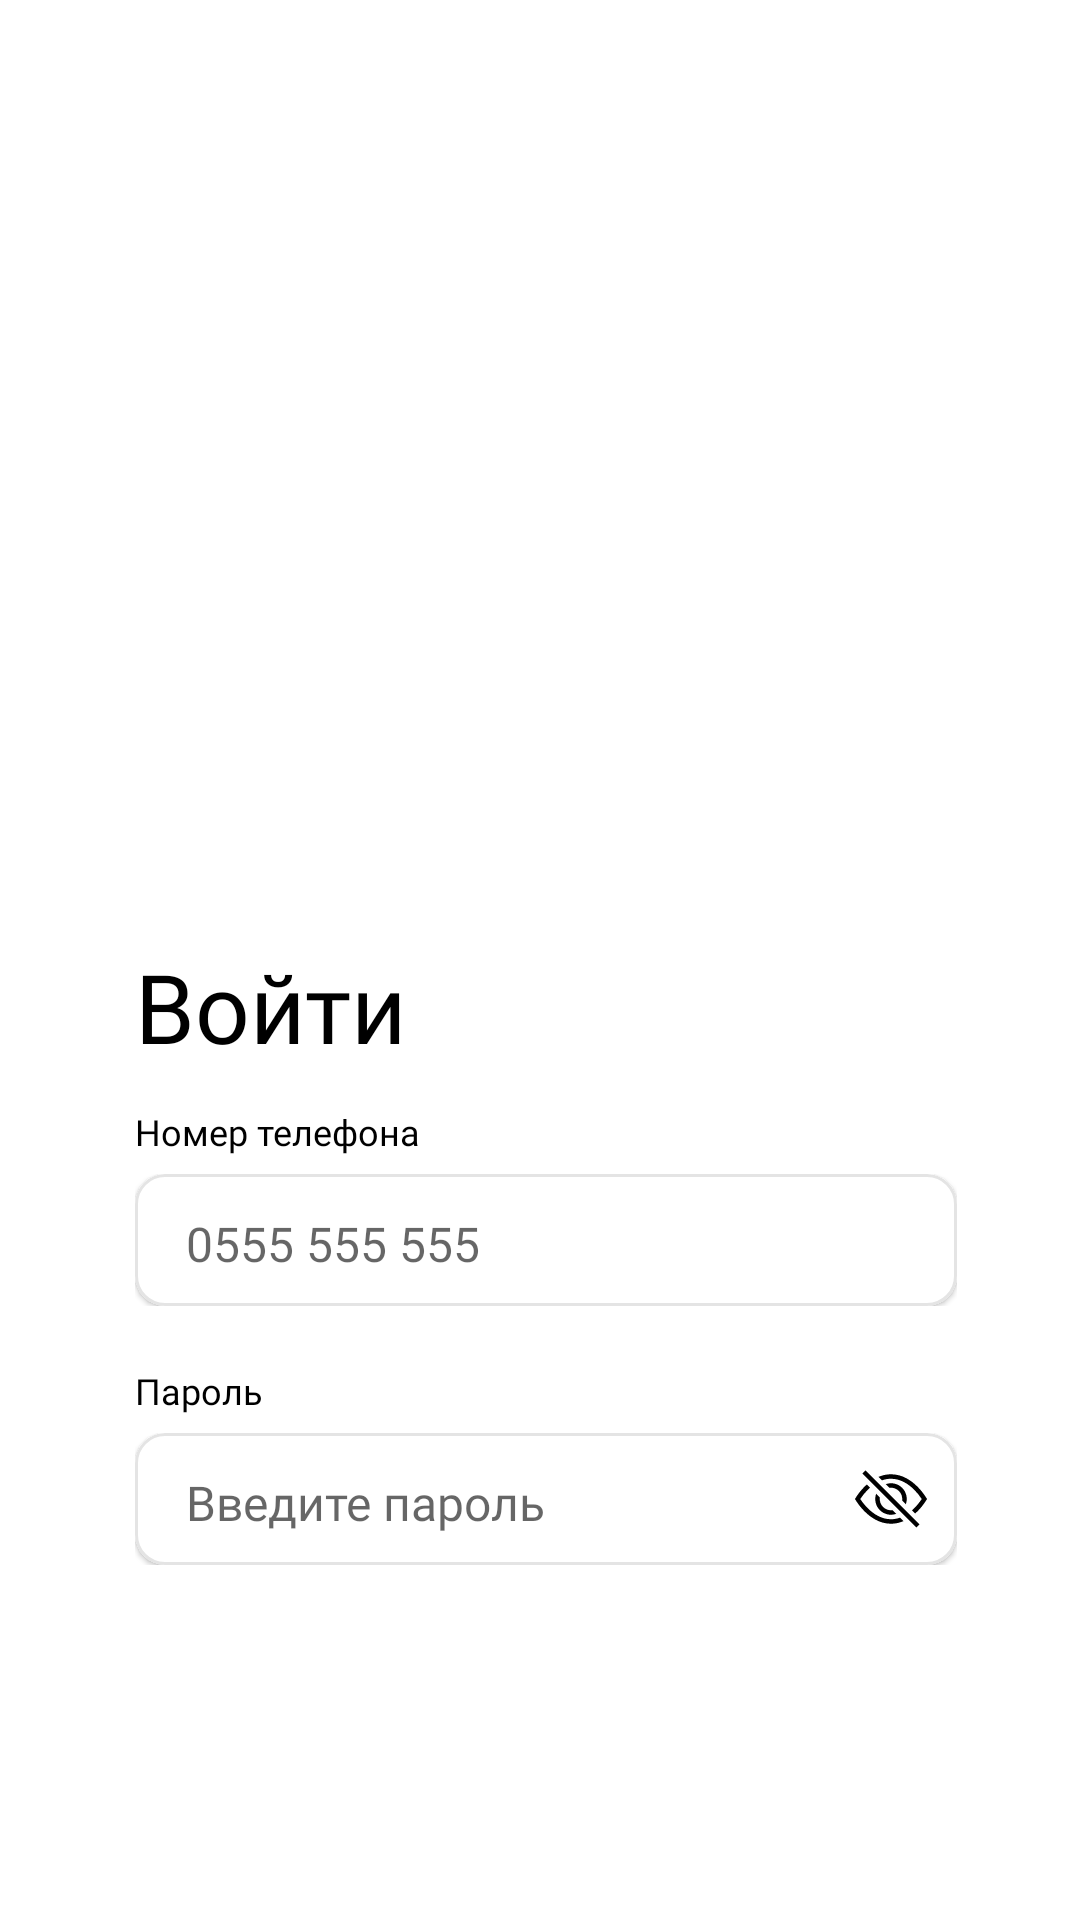

Locate icon controls on the screen. Image size 1080 x 1920, boxes as (x1, y1, x2, y2).
close eye: (855, 1470, 927, 1528)
